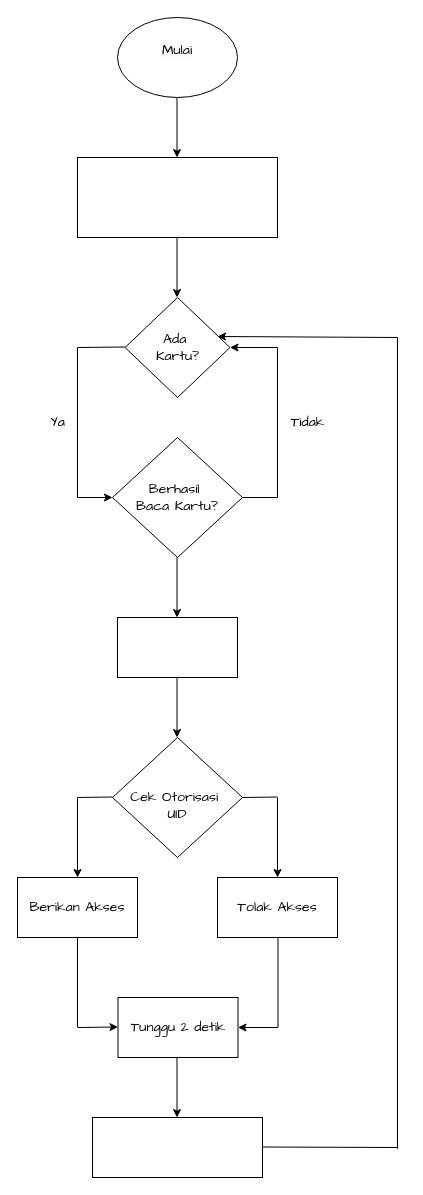
This 423x1195 diagram has some shape labels left out. Here are the shapes that lost their labels. From the top down, the box of each, then its label:
(76, 156, 278, 238): Inisialisasi - Serial Monitor - SPI - RFID Reader
(116, 616, 238, 678): Baca UID Kartu
(92, 1116, 262, 1178): Tampilkan Pesan 'Tempatkan KTP di RFID'
